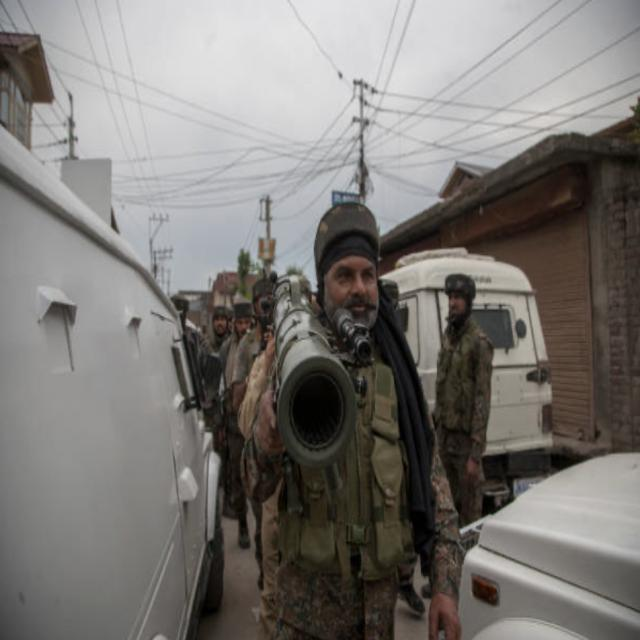bazooka: (264, 276, 365, 491)
